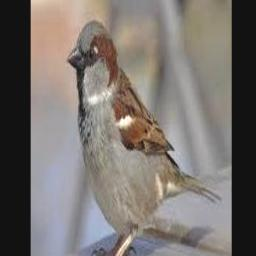Sparrow: (66, 19, 221, 256)
